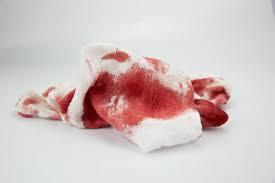cotton: (16, 44, 229, 150)
